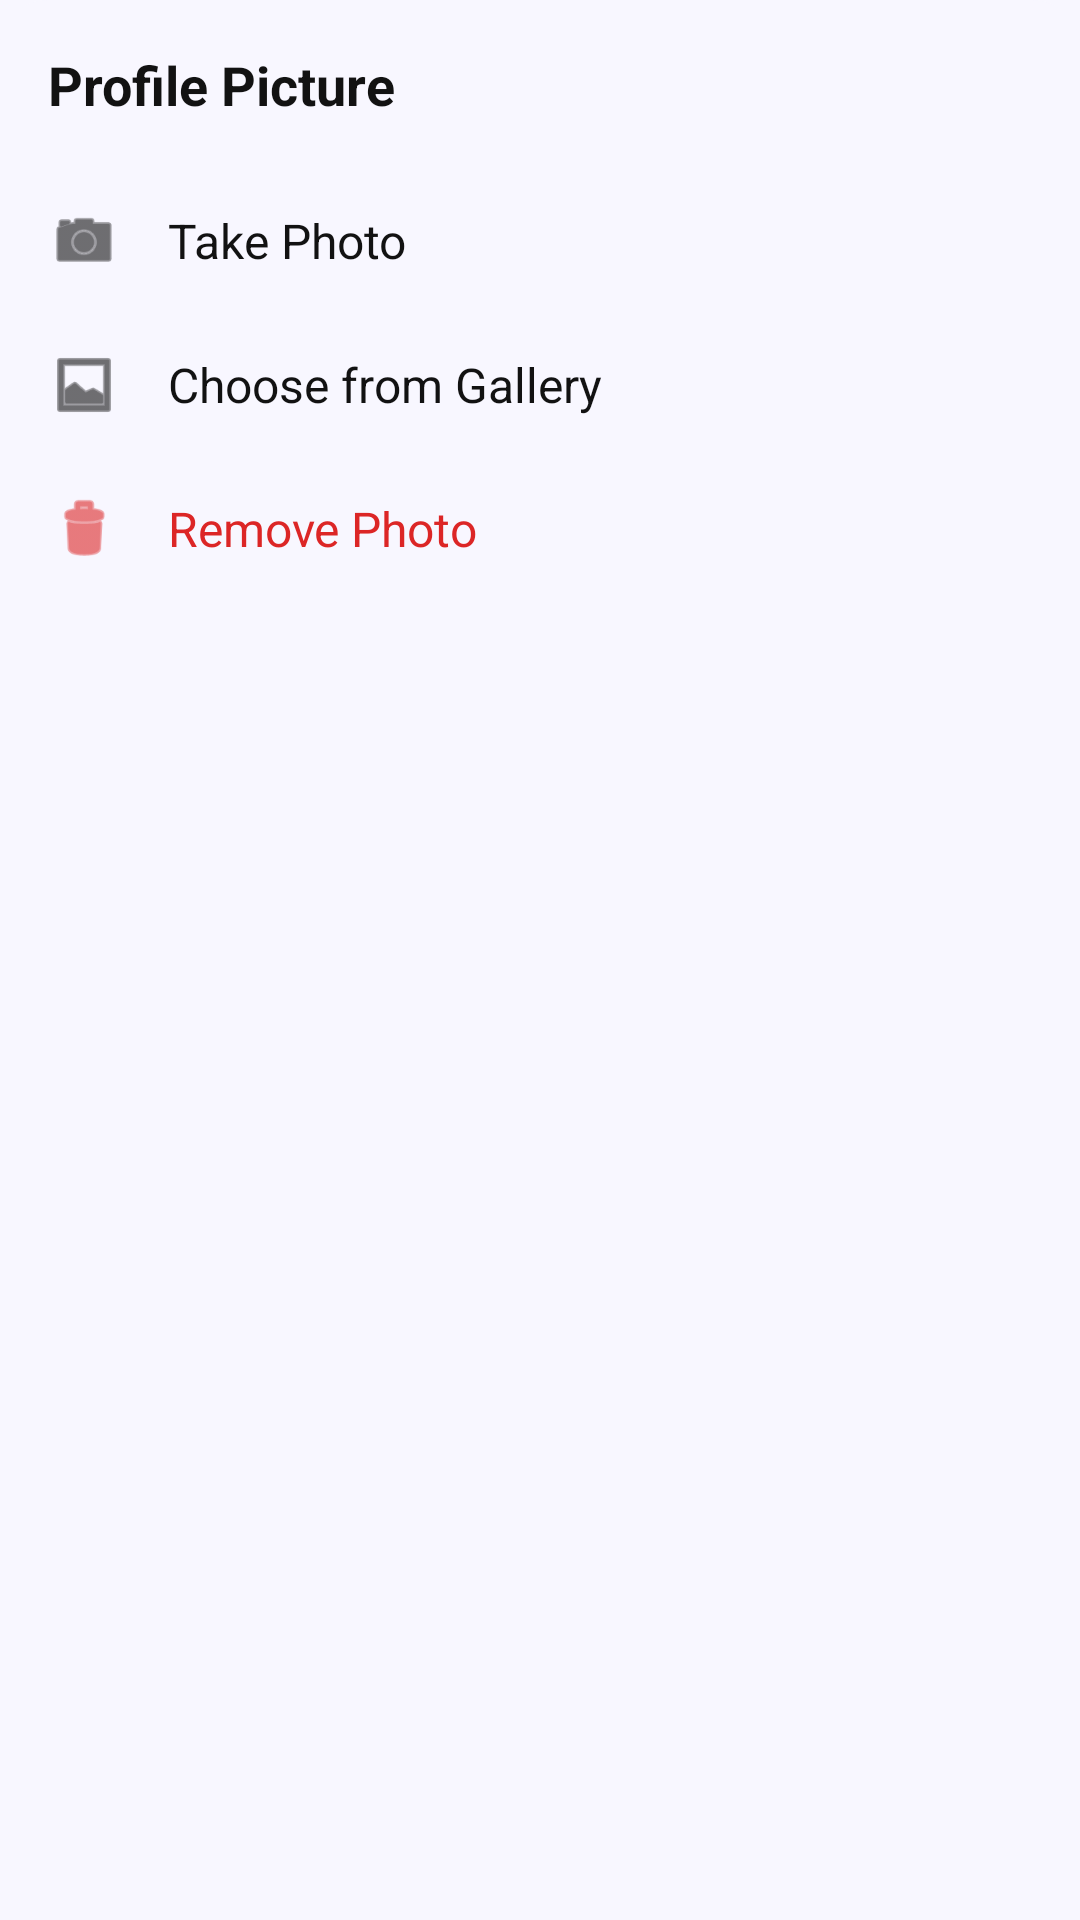

Point at icon controls on the screen. Image size 1080*1920, points as (x,y).
camera: (84,240)
delete: (84,528)
